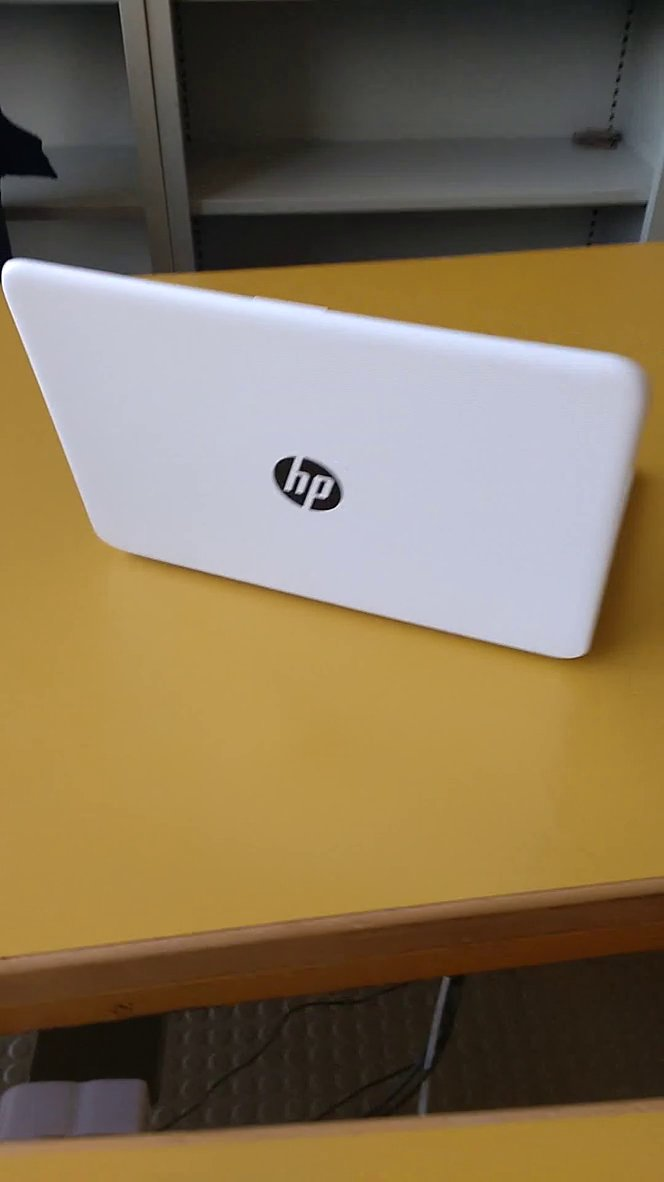laptop: (2, 247, 658, 676)
